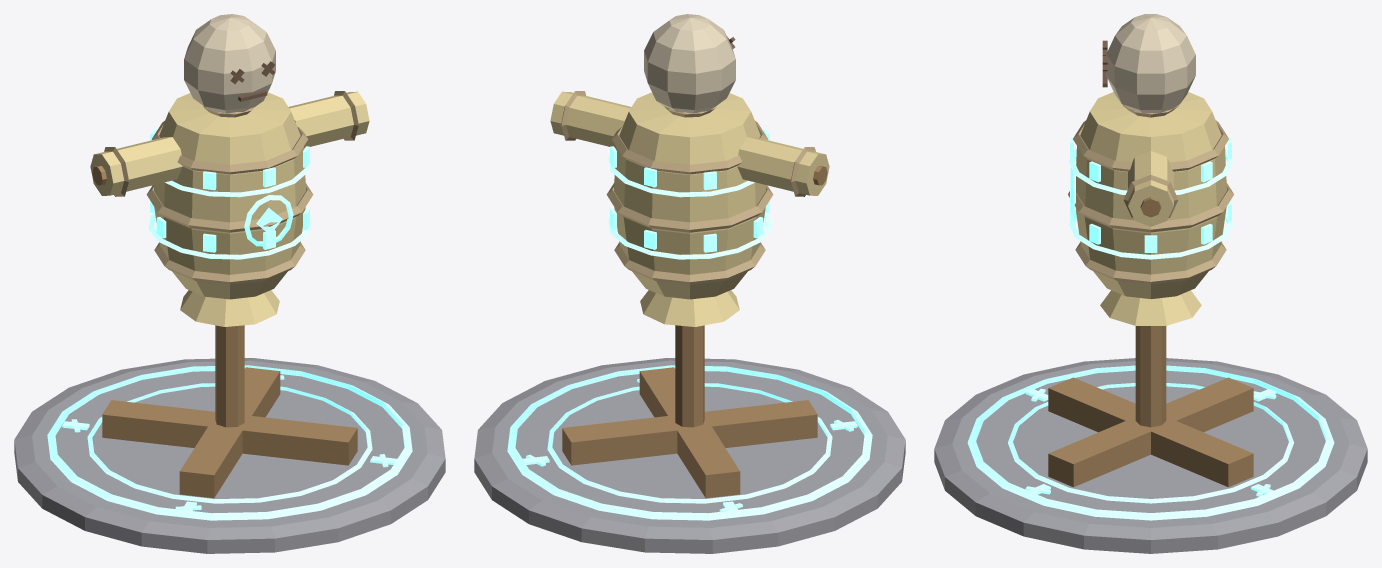
Rendered from training_dummy_warded.glb.
3 renders of one model, left to right at view 1: azimuth 30°, elevation 25°; view 2: azimuth 150°, elevation 25°; view 3: azimuth 270°, elevation 25°, orthographic.
Parts seen in each view (by area): view 1: training_dummy_warded; view 2: training_dummy_warded; view 3: training_dummy_warded.
Part boxes in pixels (x1=…): training_dummy_warded: x1=14, y1=14, x2=445, y2=553; training_dummy_warded: x1=474, y1=14, x2=905, y2=553; training_dummy_warded: x1=934, y1=14, x2=1367, y2=553.
Size of the model in its own units: 1.7 by 1.93 by 1.7.
